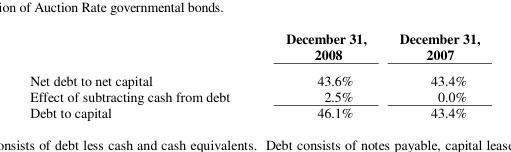table: (29, 28, 479, 121)
table column: (29, 28, 257, 121), (257, 28, 382, 121), (382, 28, 479, 121)
table column header: (29, 28, 479, 66)
table row: (29, 28, 479, 66), (29, 66, 479, 87), (29, 103, 479, 121), (29, 87, 479, 103)
